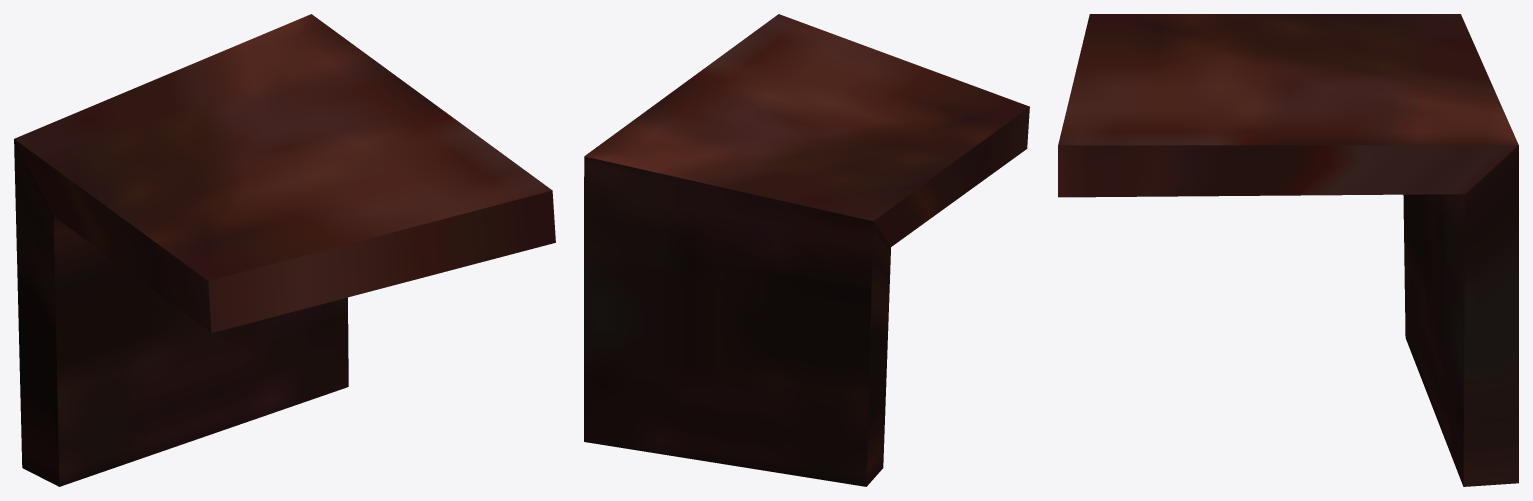
The model's file is Shared - Armor - Tanker Truck - Damage State 03 - CVTanker_d03.glb.
3 views of the same model, side by side, from view 1: azimuth 30°, elevation 25°; view 2: azimuth 150°, elevation 25°; view 3: azimuth 270°, elevation 25° (orthographic). The views are drawn at different scales.
Parts seen in each view (by area): view 1: CVTANKER_D03; view 2: CVTANKER_D03; view 3: CVTANKER_D03.
Part boxes in pixels (bbox=[...]): CVTANKER_D03: bbox=[14, 14, 555, 486]; CVTANKER_D03: bbox=[584, 14, 1029, 486]; CVTANKER_D03: bbox=[1058, 14, 1518, 486].
Size of the model in its own units: 3.28 by 3.3 by 4.07.
1 material, 1 textured.
